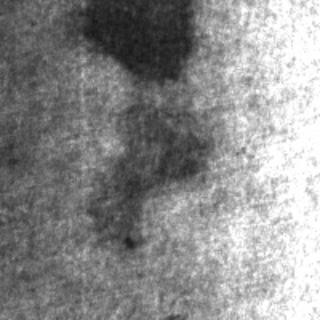patches: (96, 98, 194, 240), (80, 0, 196, 81)
